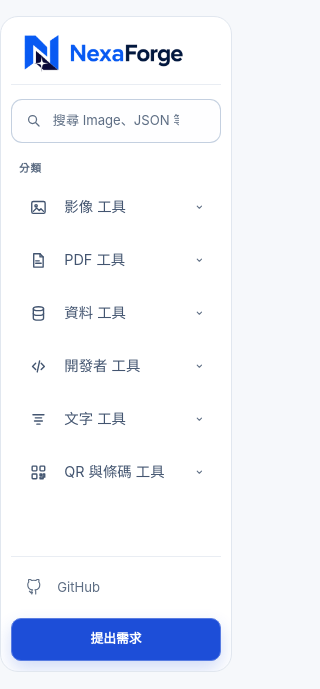
Test: ToolSidebar › clears a tool search and restores category navigation
Type "json" into the field labelled "搜尋 Image、JSON 等工具" at x=116, y=120, box [11,98,221,142]
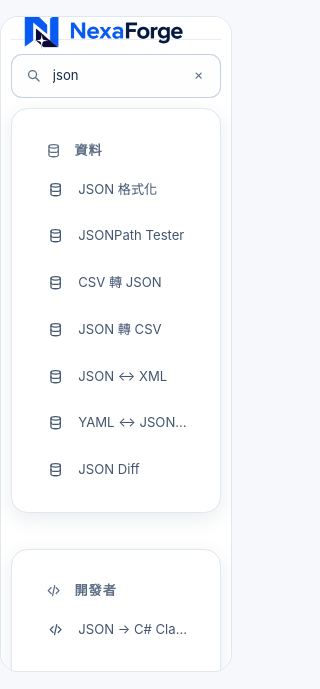
Now the button "資料 工具" is gone
Click the button named "清除搜尋" at x=199, y=76, box [183,60,215,92]
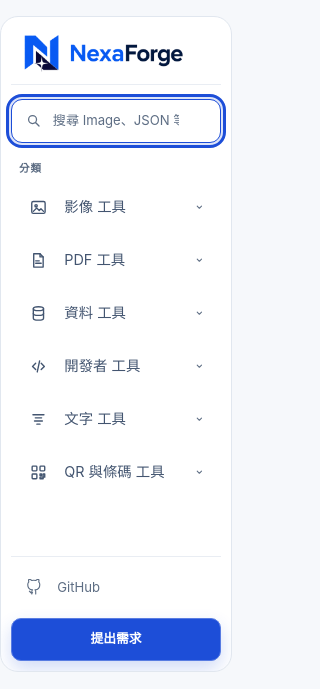
Now the field labelled "搜尋 Image、JSON 等工具" is empty, box [11,98,221,142]
Now the button "資料 工具" is shown, box [11,289,221,339]
